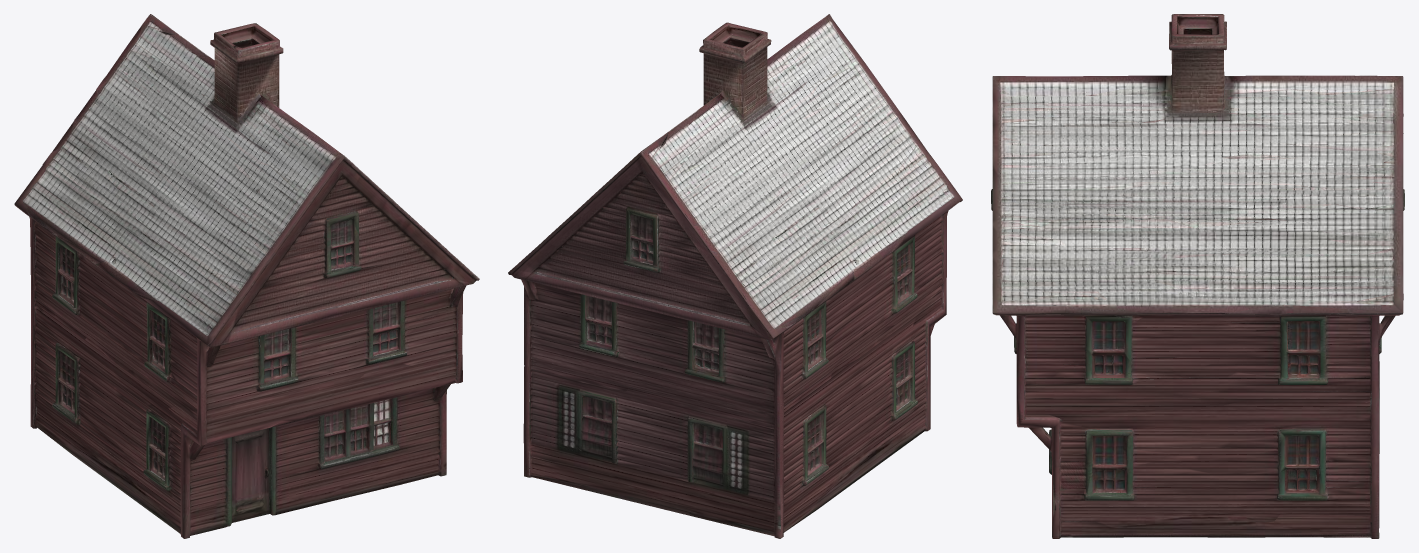
Rendered from bldg-row-clapboard-c.glb.
The picture shows the model from 3 angles, left to right: view 1: azimuth 30°, elevation 25°; view 2: azimuth 150°, elevation 25°; view 3: azimuth 270°, elevation 25°; orthographic projection. The views are drawn at different scales.
Visible parts, largest first — view 1: Mesh_0; view 2: Mesh_0; view 3: Mesh_0.
Part boxes in pixels (x1=…): Mesh_0: x1=14, y1=14, x2=479, y2=538; Mesh_0: x1=508, y1=14, x2=962, y2=538; Mesh_0: x1=991, y1=14, x2=1404, y2=538.
Bounding box in the file's own units: 1.29 × 1.9 × 1.6.
Materials: 1 (1 with a texture image).
